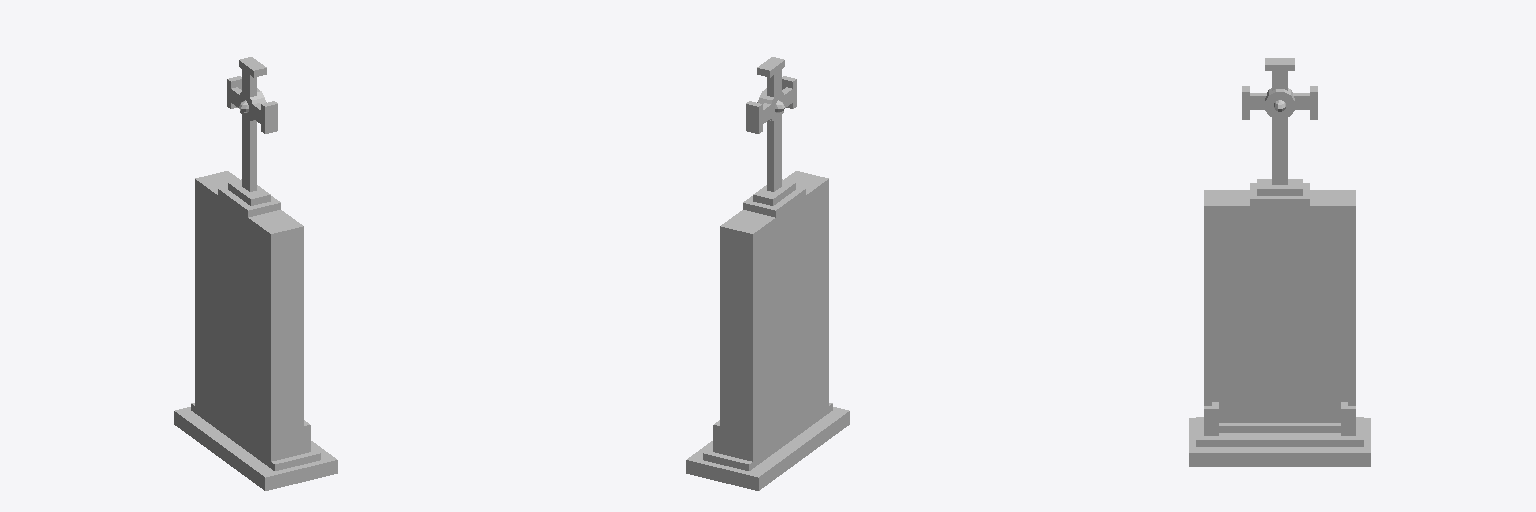
Rendered from gravestone2.obj.
The picture shows the model from 3 angles: view 1: azimuth 30°, elevation 25°; view 2: azimuth 150°, elevation 25°; view 3: azimuth 270°, elevation 25°; orthographic projection.
Parts seen in each view (by area): view 1: sphere; view 2: sphere; view 3: sphere.
Part boxes in pixels (x1,y1,x2,y2): sphere: (174, 57, 337, 490); sphere: (686, 57, 849, 490); sphere: (1189, 58, 1370, 466).
Bounding box in the file's own units: 0.1719 × 0.875 × 0.375.